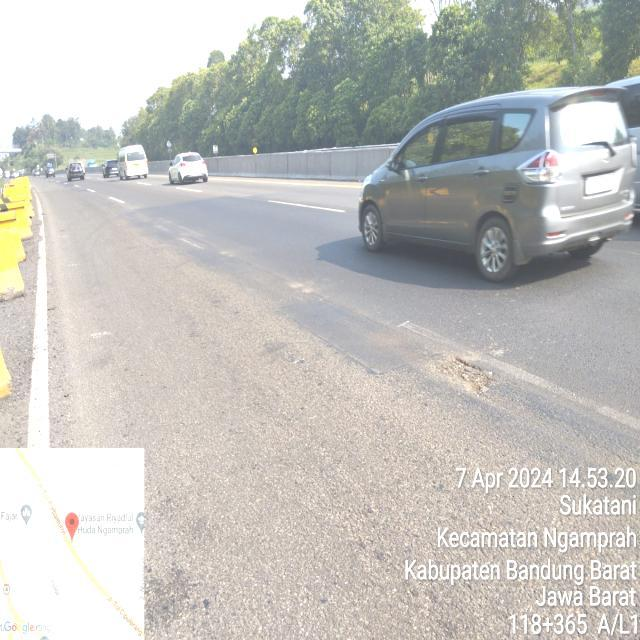Buraco: (427, 355, 500, 399)
